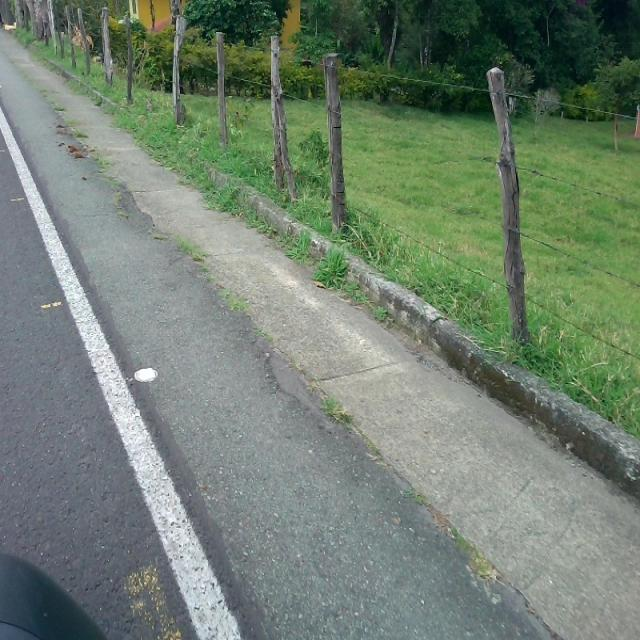DITCH: (2, 23, 637, 638)
